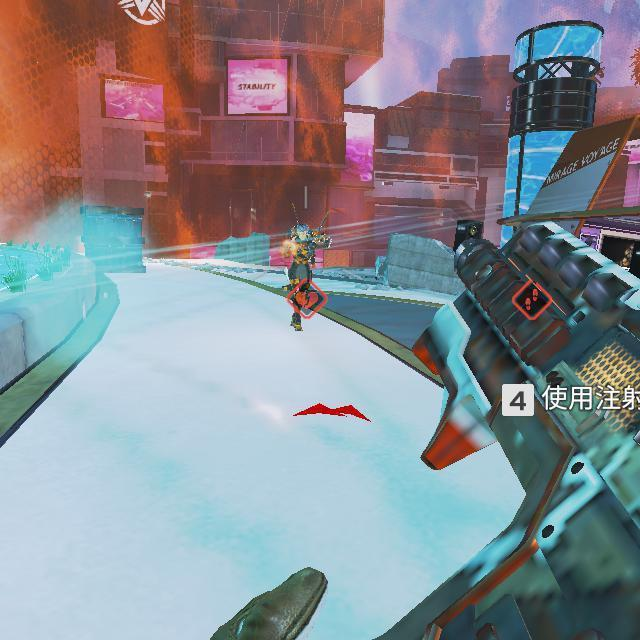avatar: (284, 223, 332, 331)
